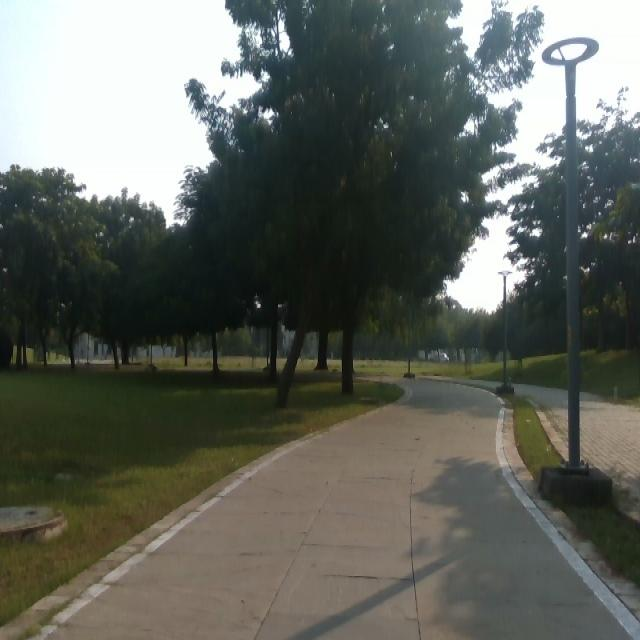lane: (49, 379, 631, 636)
